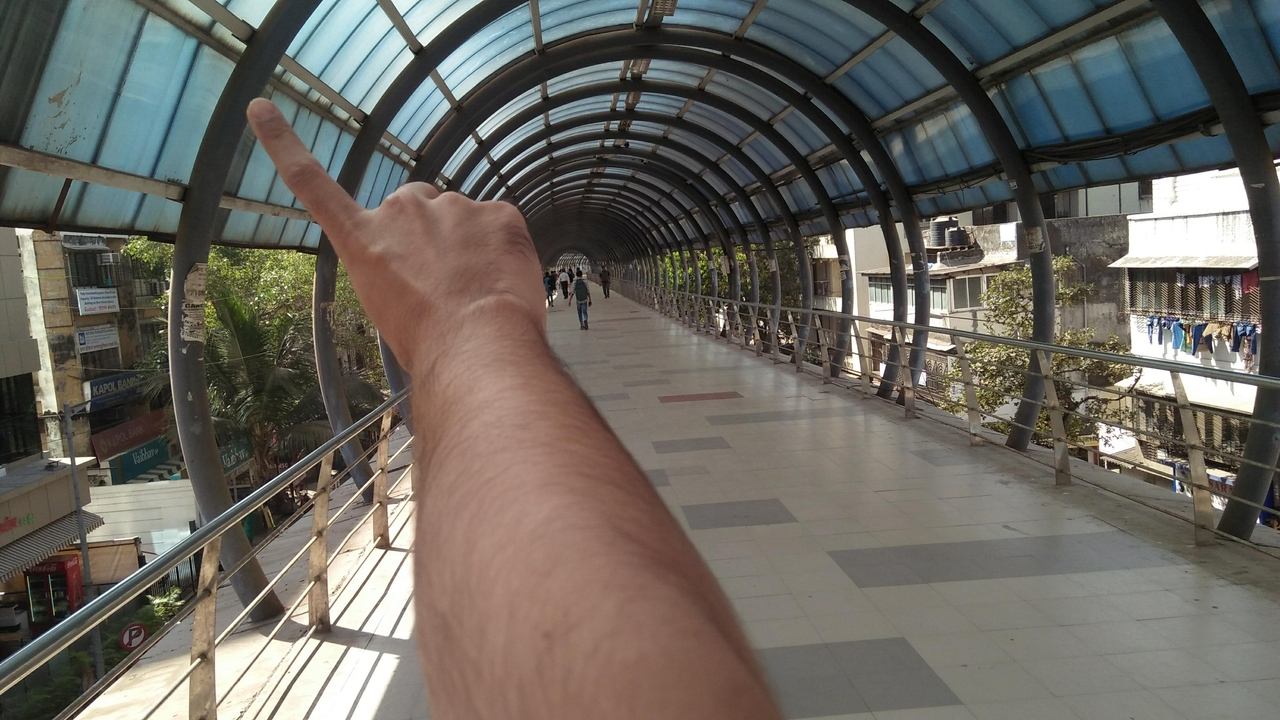fingertip: (232, 88, 288, 140)
